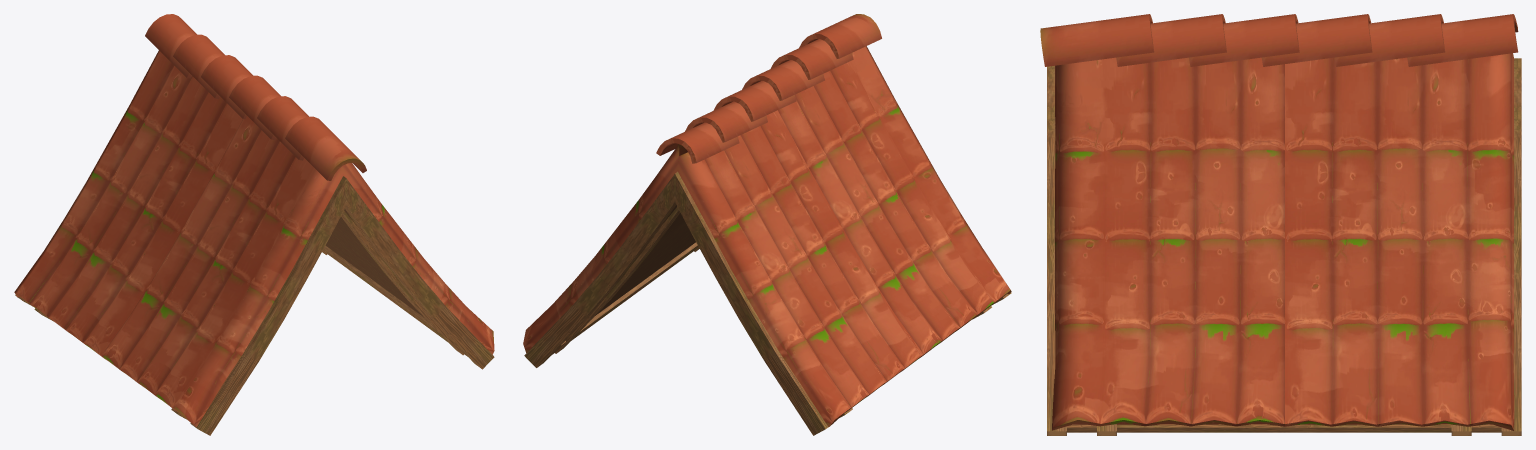
Rendered from Roof_RoundTiles_4x4.glb.
3 views of the same model, side by side, from view 1: azimuth 30°, elevation 25°; view 2: azimuth 150°, elevation 25°; view 3: azimuth 270°, elevation 25° (orthographic). The views are drawn at different scales.
Visible parts, largest first — view 1: Roof_RoundTiles_4x4; view 2: Roof_RoundTiles_4x4; view 3: Roof_RoundTiles_4x4.
Part boxes in pixels (left/top/right/bottom): Roof_RoundTiles_4x4: left=14, top=14, right=494, bottom=435; Roof_RoundTiles_4x4: left=523, top=14, right=1011, bottom=435; Roof_RoundTiles_4x4: left=1040, top=14, right=1521, bottom=435.
Bounding box in the file's own units: 5.51 × 4.25 × 5.56.
Materials: 2 (2 with a texture image).
